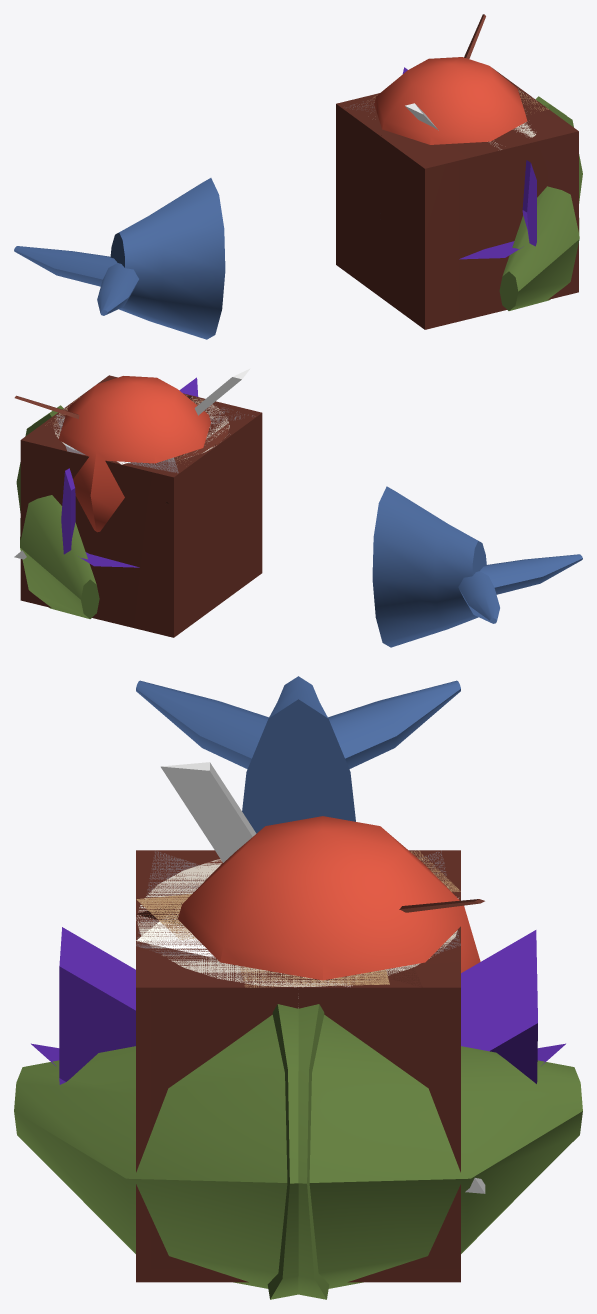
Rendered from vie-mer-leger.glb.
The picture shows the model from 3 angles, top to bottom: view 1: azimuth 30°, elevation 25°; view 2: azimuth 150°, elevation 25°; view 3: azimuth 270°, elevation 25°; orthographic projection. The views are drawn at different scales.
Parts seen in each view (by area): view 1: marchand_corps, baleine_queue, peche_canne, tortue_nageoireg, raie_aileg; view 2: marchand_corps, baleine_queue, peche_canne, tortue_nageoired, raie_ailed, poisson_corps, tortue_corps; view 3: tortue_nageoireg, tortue_nageoired, marchand_corps, peche_canne, baleine_queue, raie_aileg, raie_ailed, tortue_corps, peche_corps, poisson_corps.
Part boxes in pixels (bbox=[...]): marchand_corps: bbox=[336, 68, 578, 329]; baleine_queue: bbox=[14, 178, 225, 339]; peche_canne: bbox=[374, 14, 527, 144]; tortue_nageoireg: bbox=[499, 96, 579, 310]; raie_aileg: bbox=[459, 160, 536, 259]; marchand_corps: bbox=[20, 375, 262, 637]; baleine_queue: bbox=[372, 486, 582, 647]; peche_canne: bbox=[14, 368, 250, 559]; tortue_nageoired: bbox=[20, 405, 99, 618]; raie_ailed: bbox=[61, 468, 139, 567]; poisson_corps: bbox=[56, 397, 252, 472]; tortue_corps: bbox=[54, 395, 229, 458]; tortue_nageoireg: bbox=[14, 1004, 329, 1299]; tortue_nageoired: bbox=[267, 1004, 582, 1299]; marchand_corps: bbox=[136, 850, 460, 1282]; peche_canne: bbox=[160, 762, 485, 1193]; baleine_queue: bbox=[136, 676, 460, 833]; raie_aileg: bbox=[31, 927, 135, 1084]; raie_ailed: bbox=[461, 930, 565, 1083]; tortue_corps: bbox=[136, 859, 457, 1008]; peche_corps: bbox=[136, 898, 458, 987]; poisson_corps: bbox=[136, 851, 460, 986].
Size of the model in its own units: 6.8 by 2.65 by 3.5.
